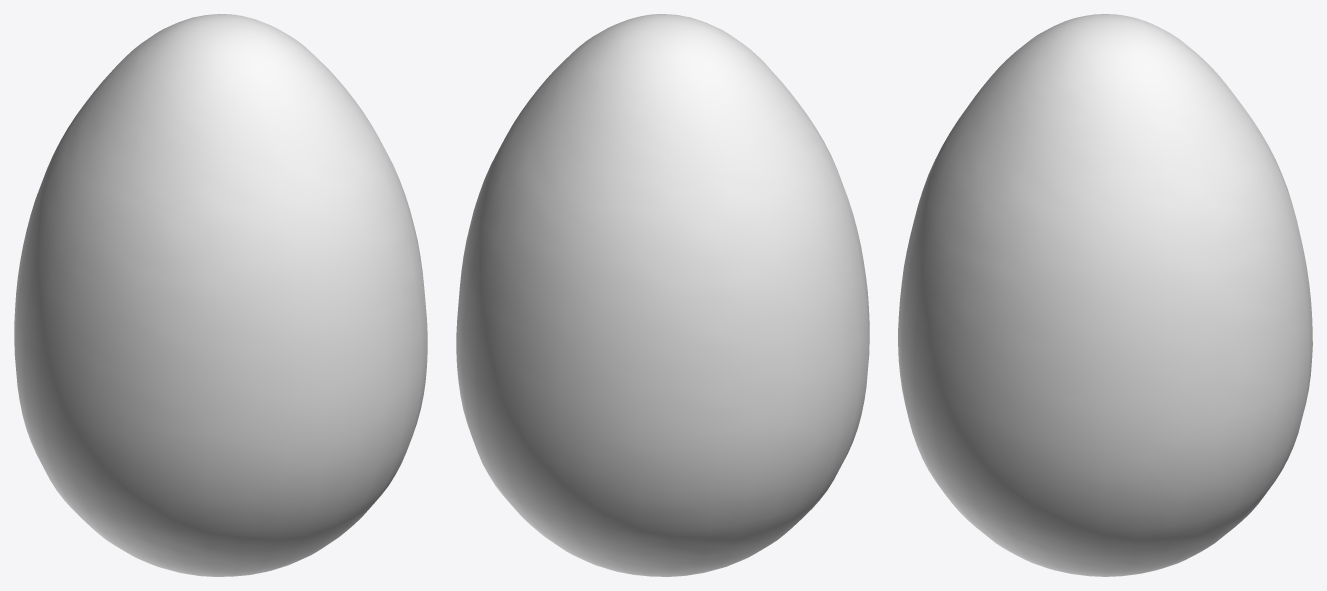
File: egg_draco.glb
The picture shows the model from 3 angles, left to right: view 1: azimuth 30°, elevation 25°; view 2: azimuth 150°, elevation 25°; view 3: azimuth 270°, elevation 25°; orthographic projection.
Visible parts, largest first — view 1: Cylinder001; view 2: Cylinder001; view 3: Cylinder001.
Part boxes in pixels (x1,y1,x2,y2): Cylinder001: [14, 14, 427, 576]; Cylinder001: [456, 14, 869, 576]; Cylinder001: [898, 14, 1312, 576].
Size of the model in its own units: 0.4023 by 0.5691 by 0.4023.
Materials: 1 (1 with a texture image).
